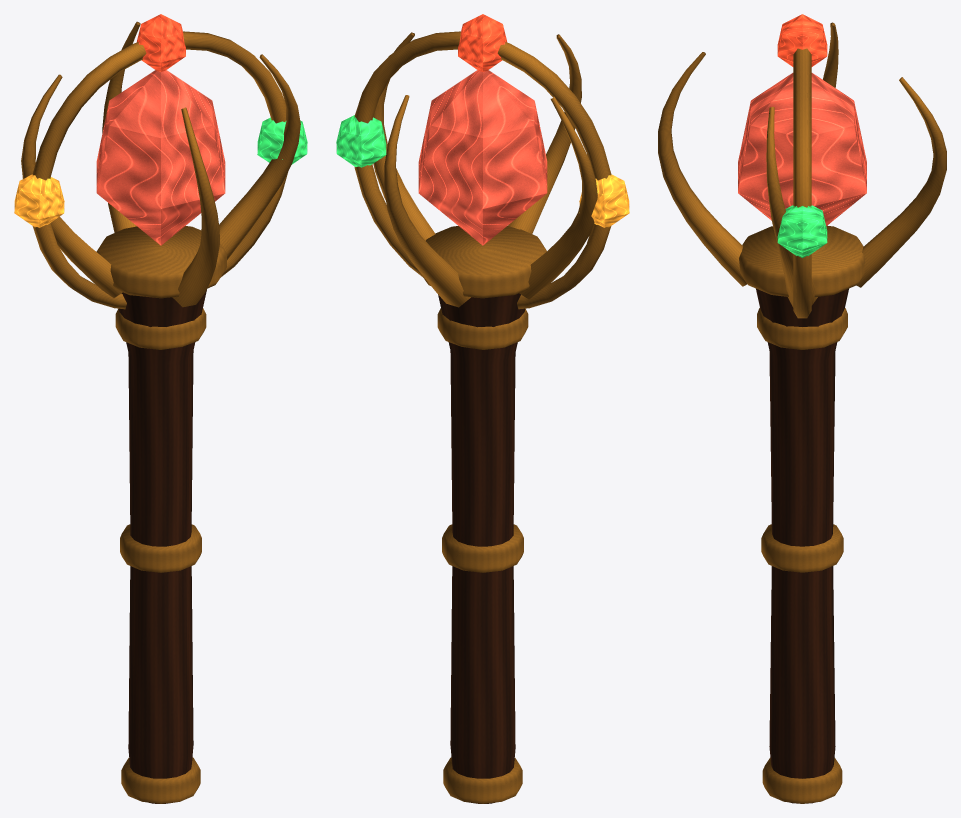
Rendered from rod_of_seasons.glb.
3 renders of one model, left to right at view 1: azimuth 30°, elevation 25°; view 2: azimuth 150°, elevation 25°; view 3: azimuth 270°, elevation 25°, orthographic.
Parts seen in each view (by area): view 1: Carved seasonal staff, Seasonal focus, Gold staff collar (×4), Living branch crown (×4), Season crown medallion, Four-season crown stone (×3); view 2: Carved seasonal staff, Seasonal focus, Gold staff collar (×4), Living branch crown (×4), Season crown medallion, Four-season crown stone (×3); view 3: Carved seasonal staff, Gold staff collar (×4), Seasonal focus, Living branch crown (×4), Season crown medallion, Four-season crown stone (×2).
Part boxes in pixels (x1,y1,x2,y2): Carved seasonal staff: (118, 289, 206, 803); Seasonal focus: (96, 70, 225, 245); Gold staff collar (×4): (96, 226, 226, 803); Living branch crown (×4): (21, 21, 300, 307); Season crown medallion: (32, 31, 287, 309); Four-season crown stone (×3): (14, 14, 307, 227); Carved seasonal staff: (438, 293, 525, 803); Seasonal focus: (418, 70, 547, 245); Gold staff collar (×4): (421, 226, 546, 803); Living branch crown (×4): (373, 32, 597, 307); Season crown medallion: (354, 31, 611, 309); Four-season crown stone (×3): (336, 14, 629, 227); Carved seasonal staff: (756, 288, 848, 803); Gold staff collar (×4): (739, 225, 865, 803); Seasonal focus: (738, 73, 866, 225); Living branch crown (×4): (658, 22, 946, 307); Season crown medallion: (793, 48, 811, 318); Four-season crown stone (×2): (777, 14, 827, 257).
Bounding box in the file's own units: 37.85 × 96 × 32.31.
Materials: 7 (7 with a texture image).
